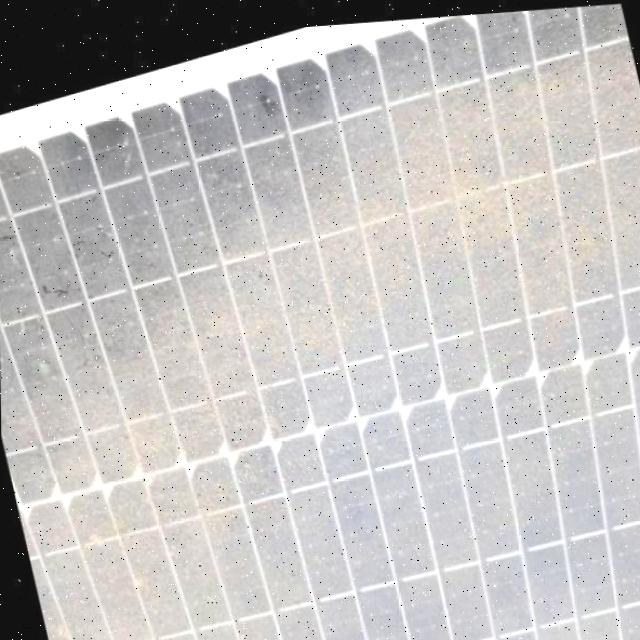Surface Contaminant: (0, 3, 640, 640)
